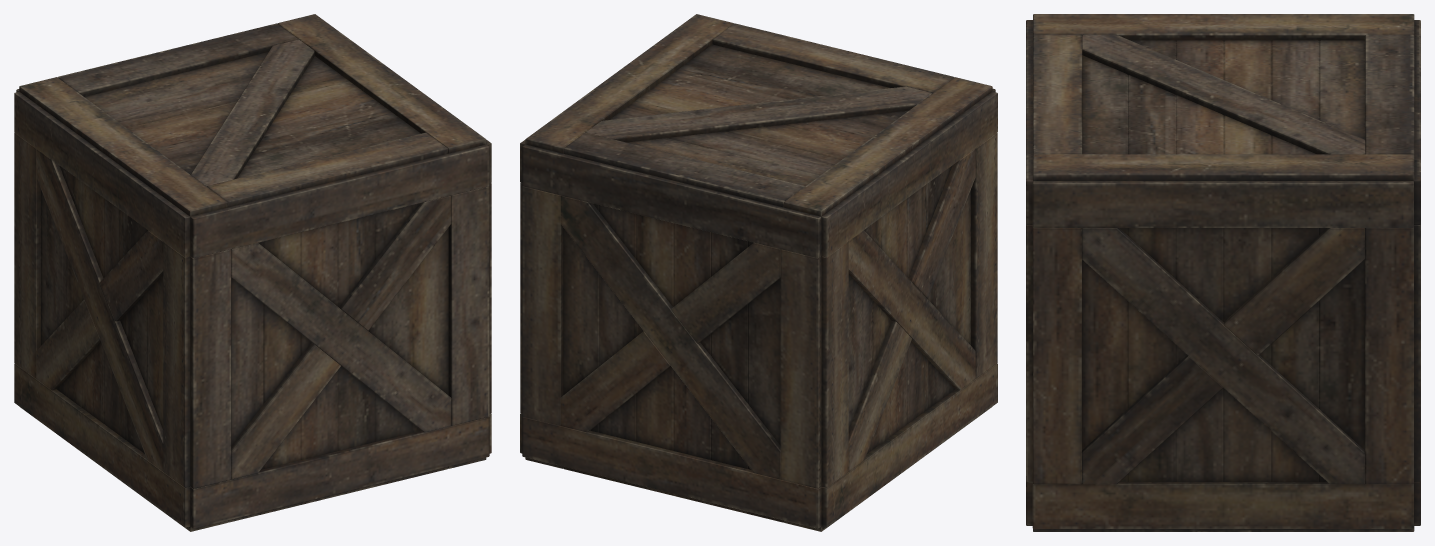
File: WoodenCrateB.fbx
3 renders of one model, left to right at view 1: azimuth 30°, elevation 25°; view 2: azimuth 150°, elevation 25°; view 3: azimuth 270°, elevation 25°, orthographic. The views are drawn at different scales.
Parts seen in each view (by area): view 1: WoodenCrateB; view 2: WoodenCrateB; view 3: WoodenCrateB.
Part boxes in pixels (x1=…): WoodenCrateB: x1=14, y1=14, x2=491, y2=531; WoodenCrateB: x1=520, y1=14, x2=997, y2=531; WoodenCrateB: x1=1026, y1=14, x2=1420, y2=531.
Size of the model in its own units: 0.9901 by 0.9893 by 0.9902.
Materials: 1 (1 with a texture image).
